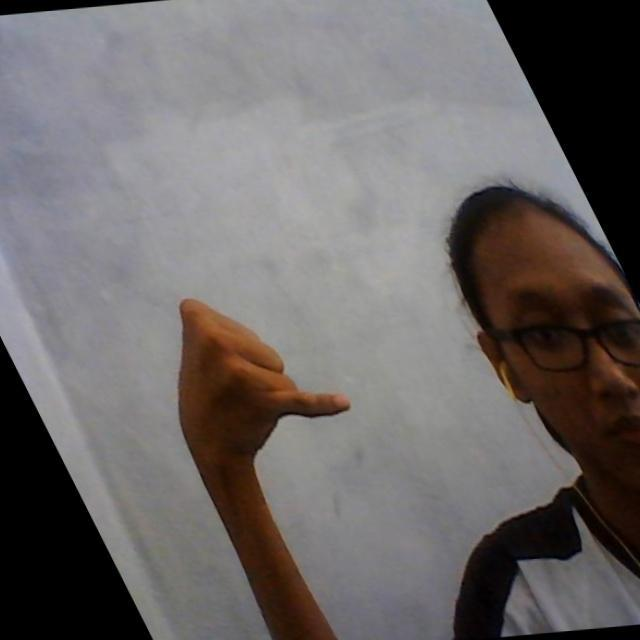J: (138, 258, 386, 492)
